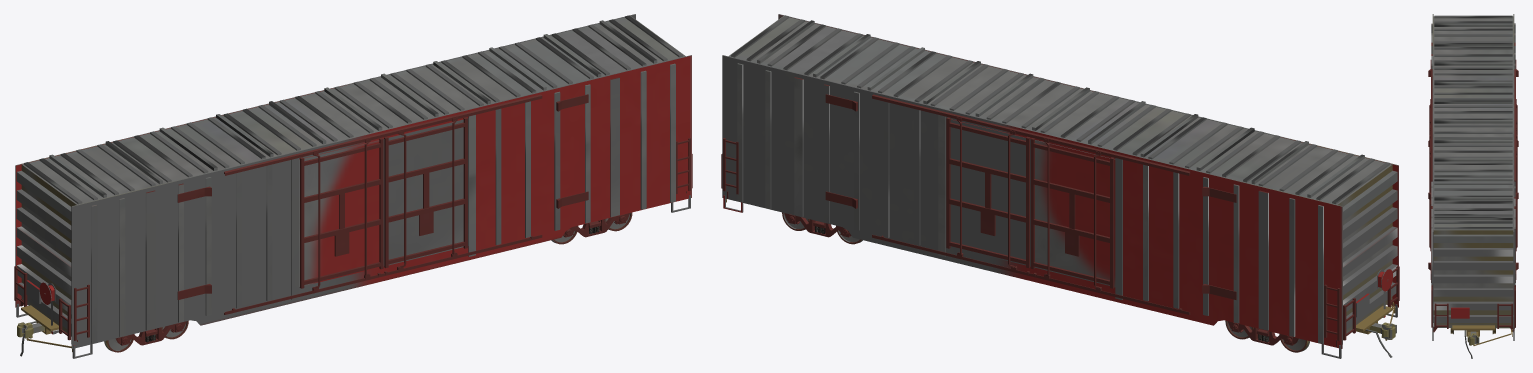
File: hi_cube_boxcar_1.obj
The picture shows the model from 3 angles, left to right: view 1: azimuth 30°, elevation 25°; view 2: azimuth 150°, elevation 25°; view 3: azimuth 270°, elevation 25°; orthographic projection. The views are drawn at different scales.
Visible parts, largest first — view 1: SHELL_MAIN, releasebar, BOGEY_FRONT_Bogie2.001, BOGEY_REAR_Bogie2.002; view 2: SHELL_MAIN, releasebar, BOGEY_FRONT_Bogie2.001, BOGEY_REAR_Bogie2.002; view 3: SHELL_MAIN, releasebar, FRAME_MAIN.001, BOGEY_REAR_Bogie2.002.
Boxes of the visible parts, <box> form: SHELL_MAIN: <box>15,14,691,358</box>; releasebar: <box>14,15,692,351</box>; BOGEY_FRONT_Bogie2.001: <box>17,321,186,356</box>; BOGEY_REAR_Bogie2.002: <box>563,213,629,237</box>; SHELL_MAIN: <box>722,14,1398,358</box>; releasebar: <box>721,15,1399,347</box>; BOGEY_FRONT_Bogie2.001: <box>1228,321,1396,357</box>; BOGEY_REAR_Bogie2.002: <box>784,213,851,237</box>; SHELL_MAIN: <box>1431,14,1515,340</box>; releasebar: <box>1428,15,1518,345</box>; FRAME_MAIN.001: <box>1452,325,1494,336</box>; BOGEY_REAR_Bogie2.002: <box>1464,330,1479,358</box>.
Size of the model in its own units: 19.86 by 4.91 by 3.23.
